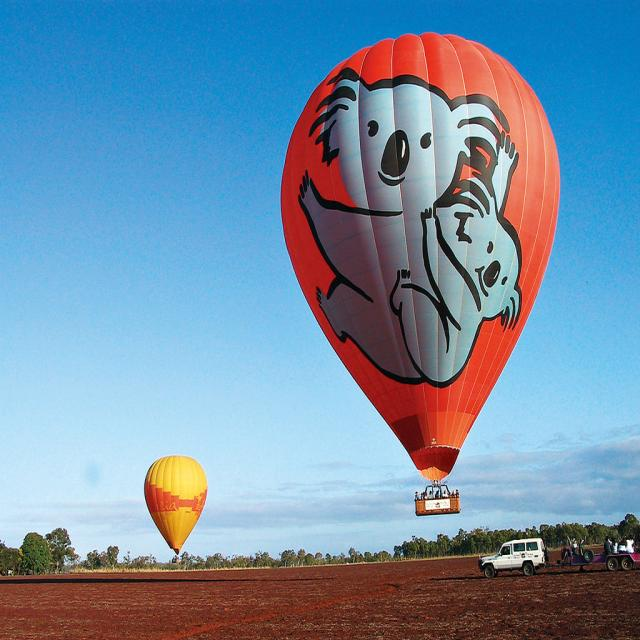balloon: (280, 31, 562, 515)
